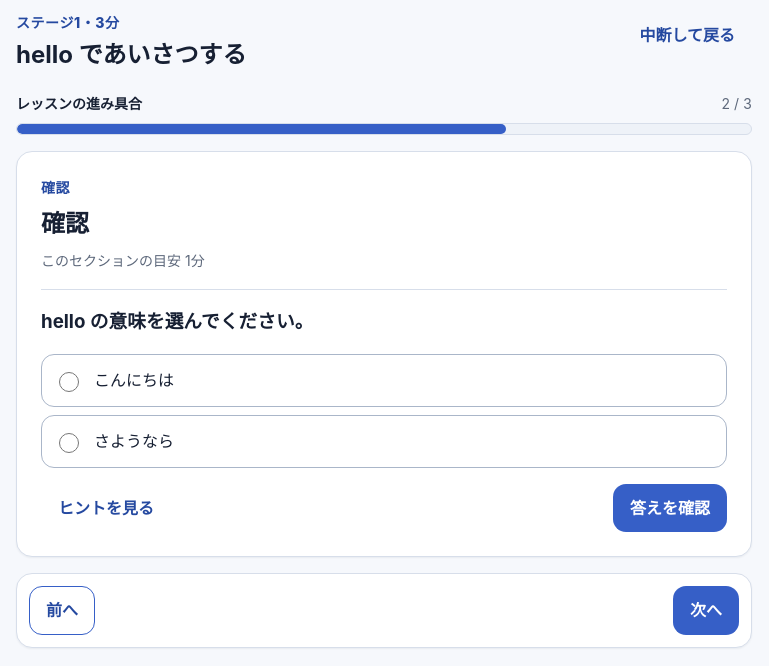
Test: レッスンレンダラー › plan復習のセクション位置と回答済み問題を再読込後に復元する
Expected: the heading "確認" is shown, [41,209,89,238]
Click the button "次へ" at (706, 611), box [673,586,739,635]
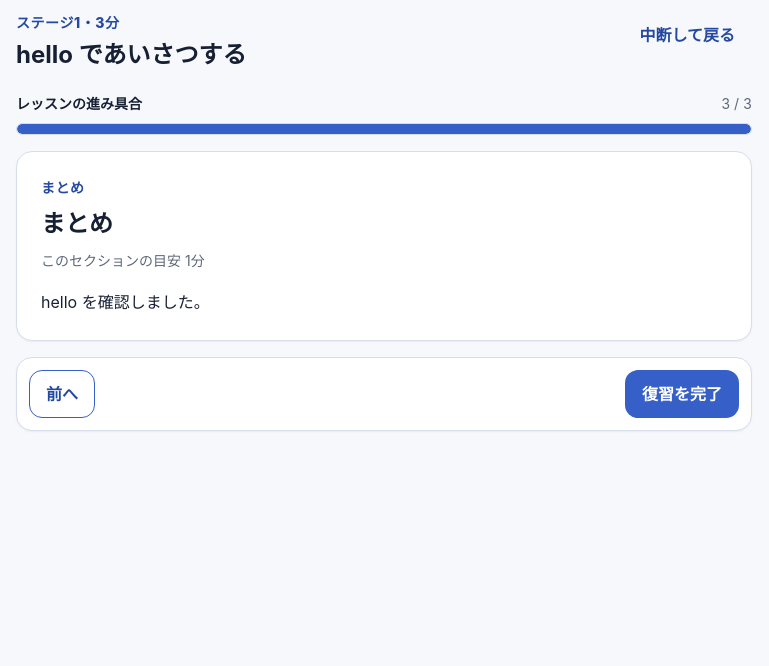
Expected: the heading "まとめ" is shown, [41,209,113,238]
